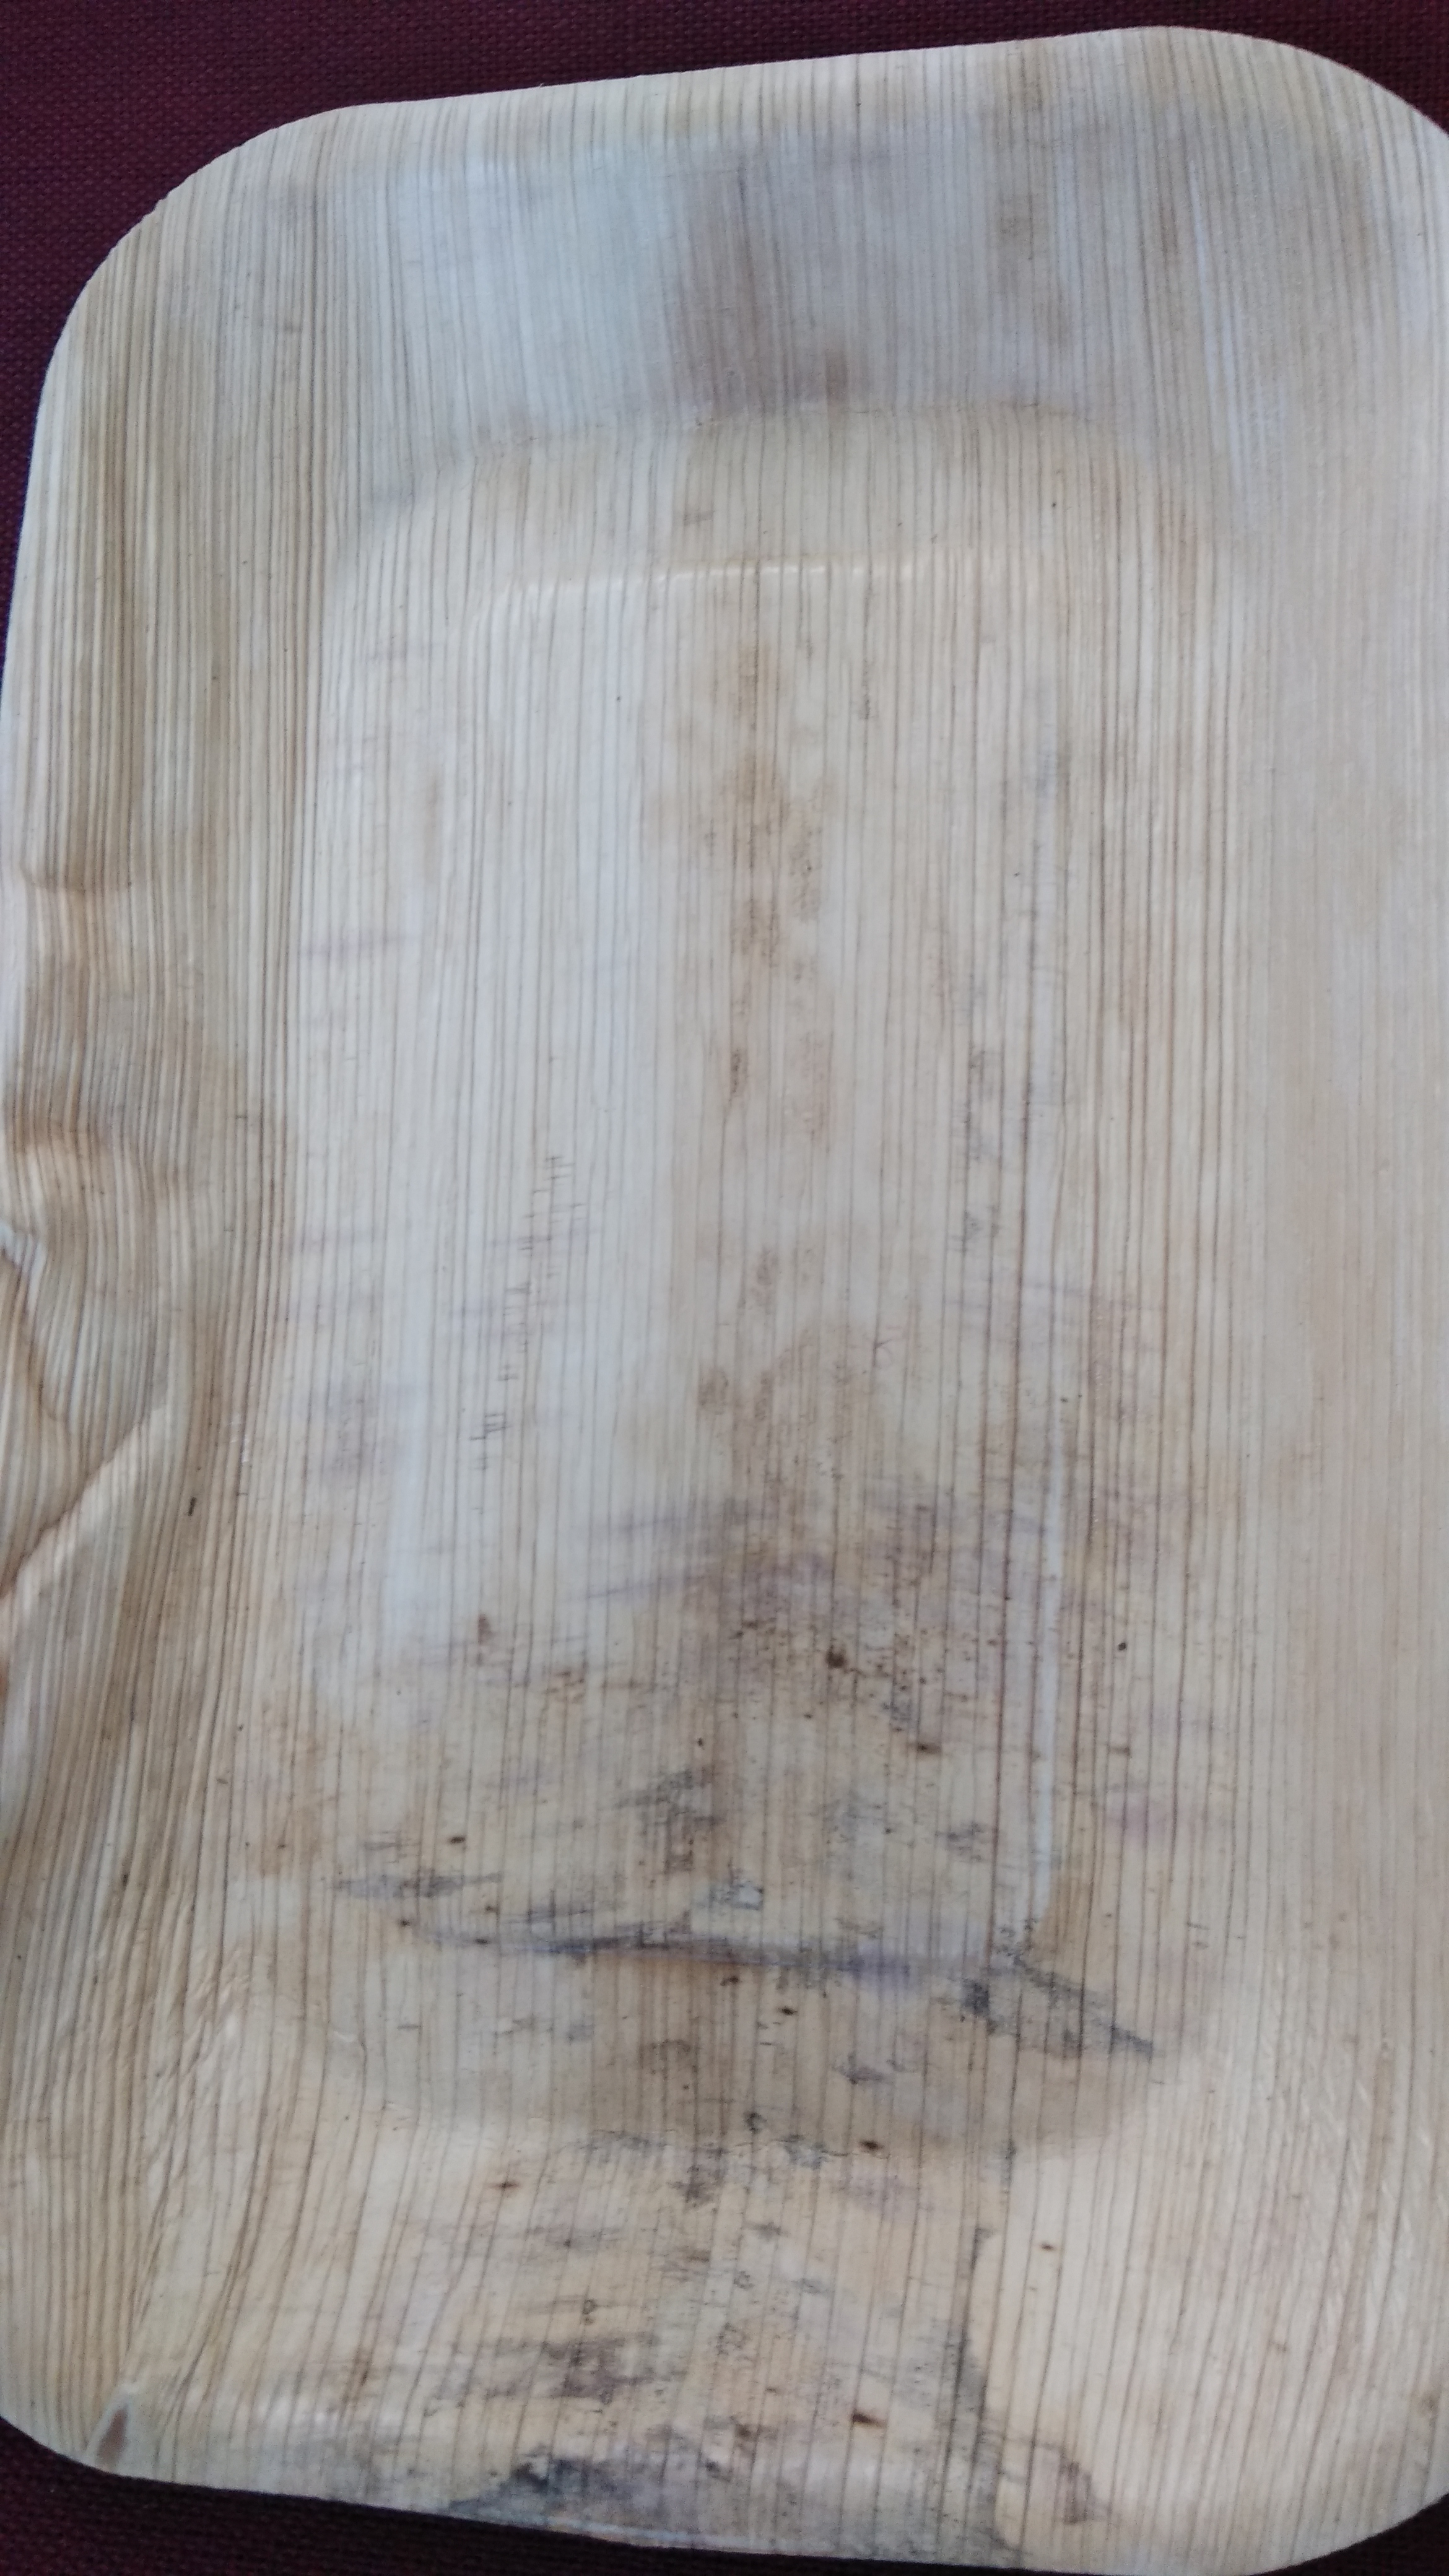areca plate: (21, 50, 1445, 2560)
